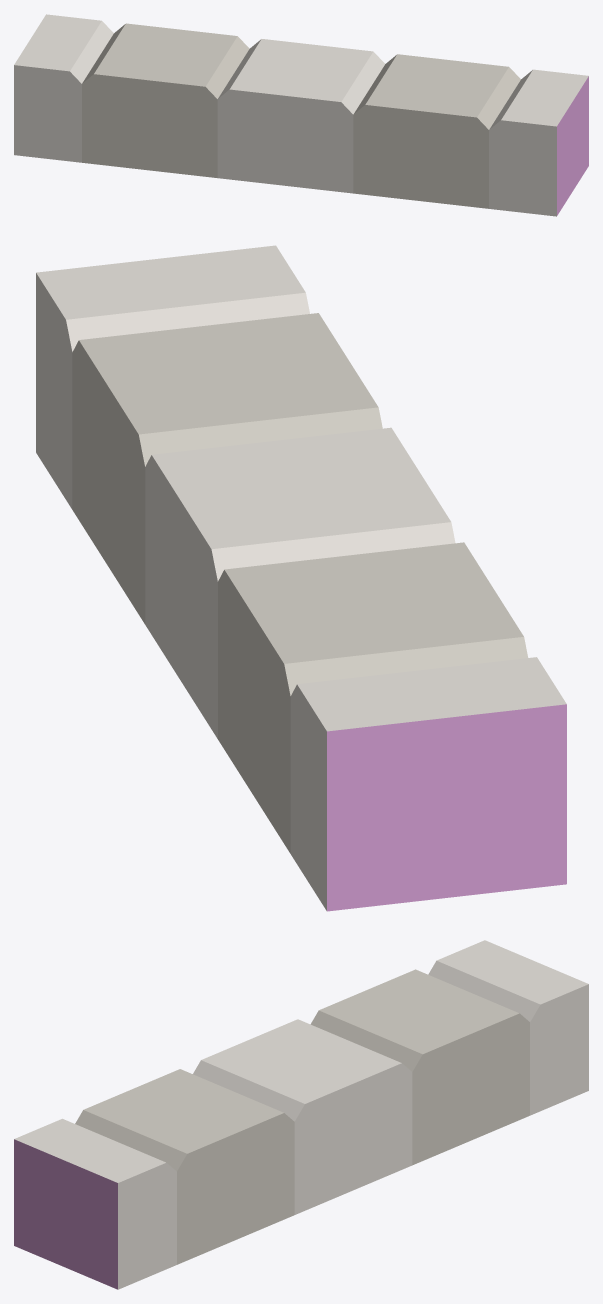
The model's file is Path_Edging_Stones_45_Degrees_Straight_2x2.glb.
3 renders of one model, top to bottom at view 1: azimuth 30°, elevation 25°; view 2: azimuth 150°, elevation 25°; view 3: azimuth 270°, elevation 25°, orthographic. The views are drawn at different scales.
Visible parts, largest first — view 1: Path_Edging_Stones_45_Degrees_Straight_2x2; view 2: Path_Edging_Stones_45_Degrees_Straight_2x2; view 3: Path_Edging_Stones_45_Degrees_Straight_2x2.
Part boxes in pixels (x1,y1,x2,y2): Path_Edging_Stones_45_Degrees_Straight_2x2: (14,14,588,216); Path_Edging_Stones_45_Degrees_Straight_2x2: (36,245,566,911); Path_Edging_Stones_45_Degrees_Straight_2x2: (14,940,588,1289).
Size of the model in its own units: 122 by 25 by 122.
